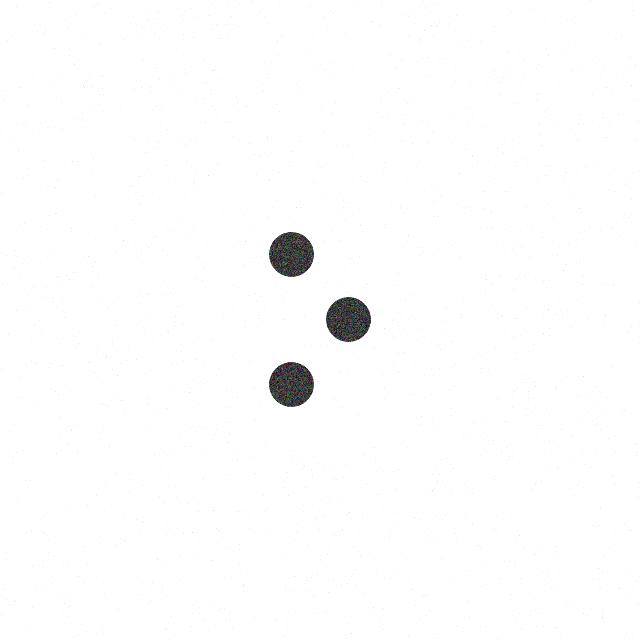O: (266, 228, 374, 414)
